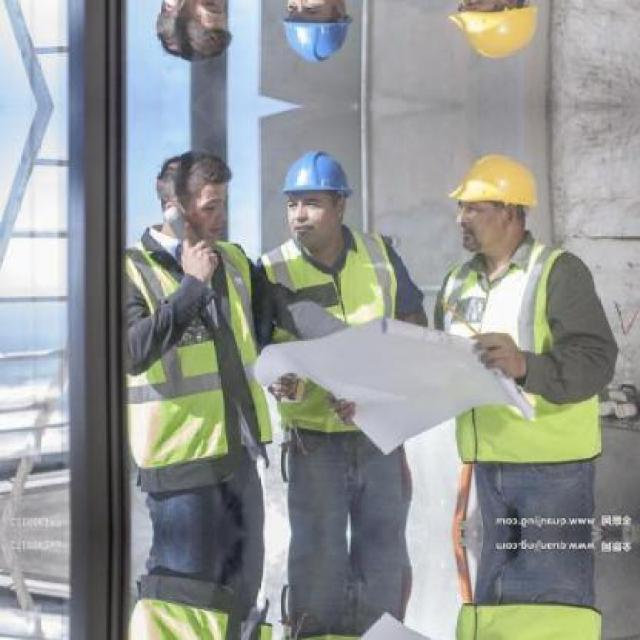Reflective-Jacket: (105, 230, 266, 490), (432, 242, 611, 474), (252, 227, 411, 452)
Safety-Helmet: (437, 143, 549, 227), (271, 140, 363, 212), (140, 136, 245, 199)
